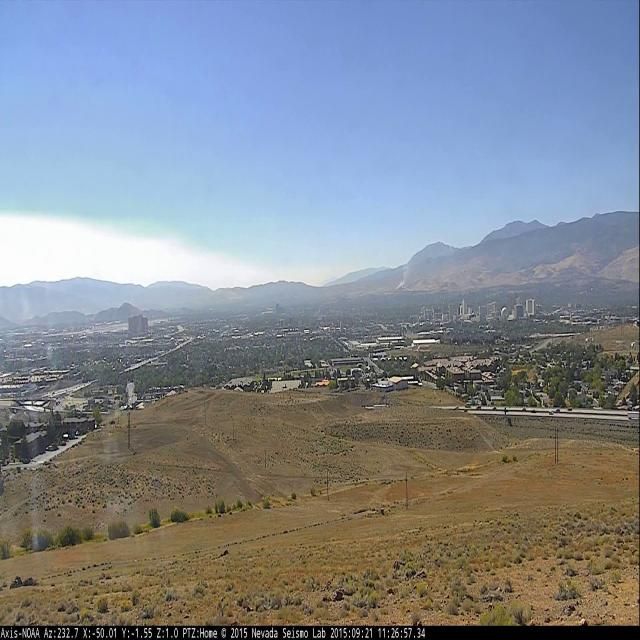smoke: (394, 265, 409, 290)
